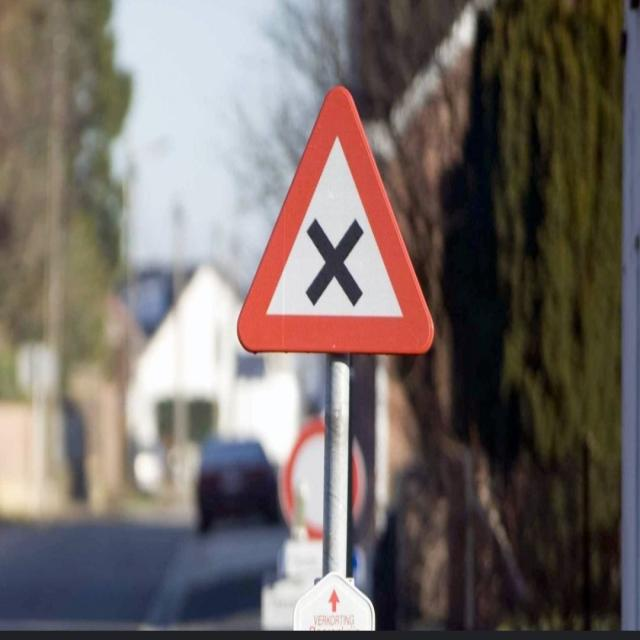Crossroads: (238, 89, 430, 343)
